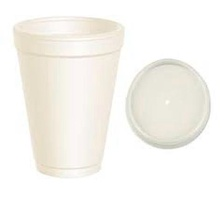paper_cup: (7, 9, 127, 185)
